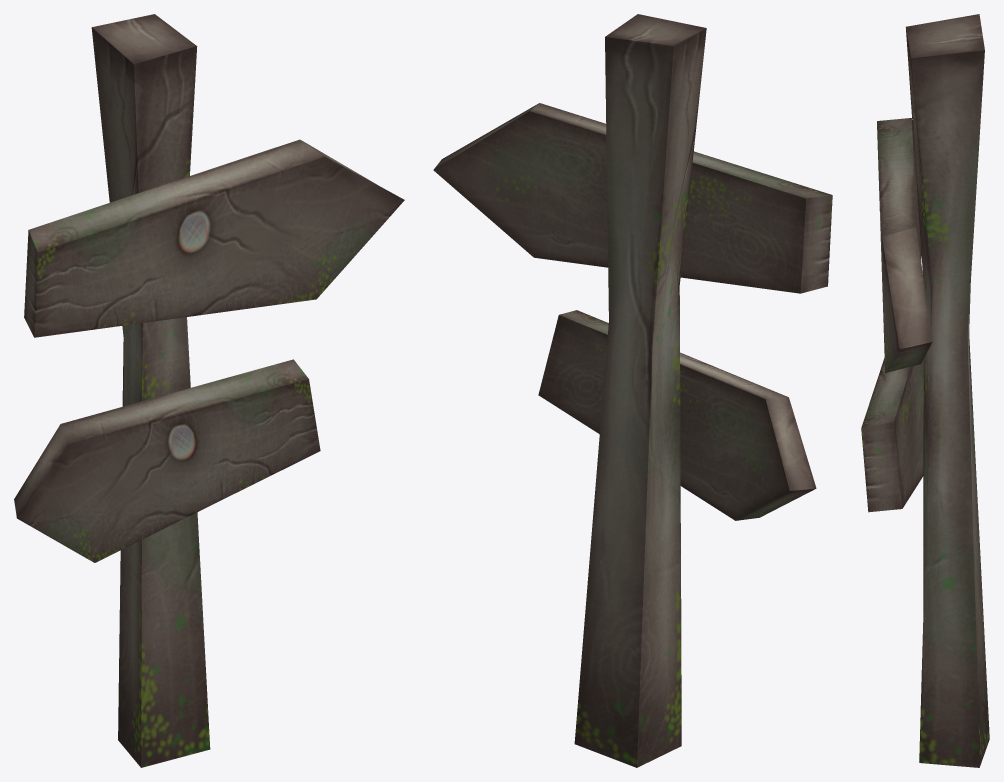
The model's file is BKS_Set3_SignB.fbx.
The picture shows the model from 3 angles, left to right: view 1: azimuth 30°, elevation 25°; view 2: azimuth 150°, elevation 25°; view 3: azimuth 270°, elevation 25°; orthographic projection. The views are drawn at different scales.
Visible parts, largest first — view 1: signB; view 2: signB; view 3: signB.
Part boxes in pixels (x1,y1,x2,y2): signB: (14,14,404,767); signB: (433,14,832,767); signB: (861,14,989,767).
Bounding box in the file's own units: 2.19 × 3.98 × 0.6523.
